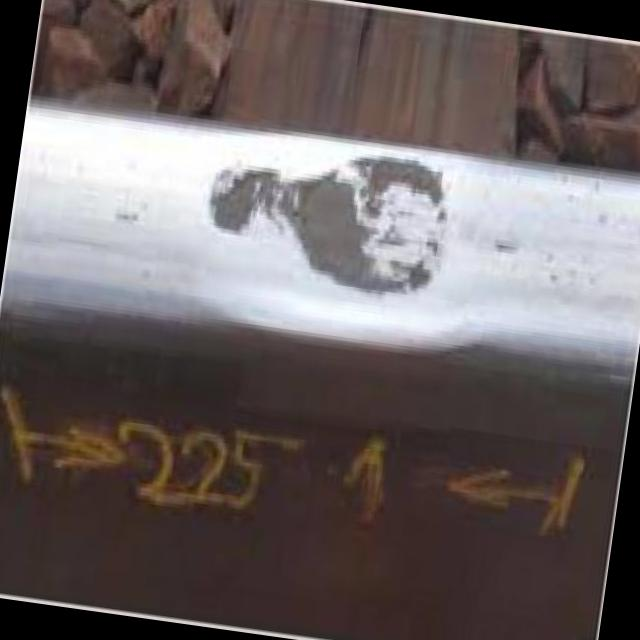defective: (145, 108, 640, 478)
